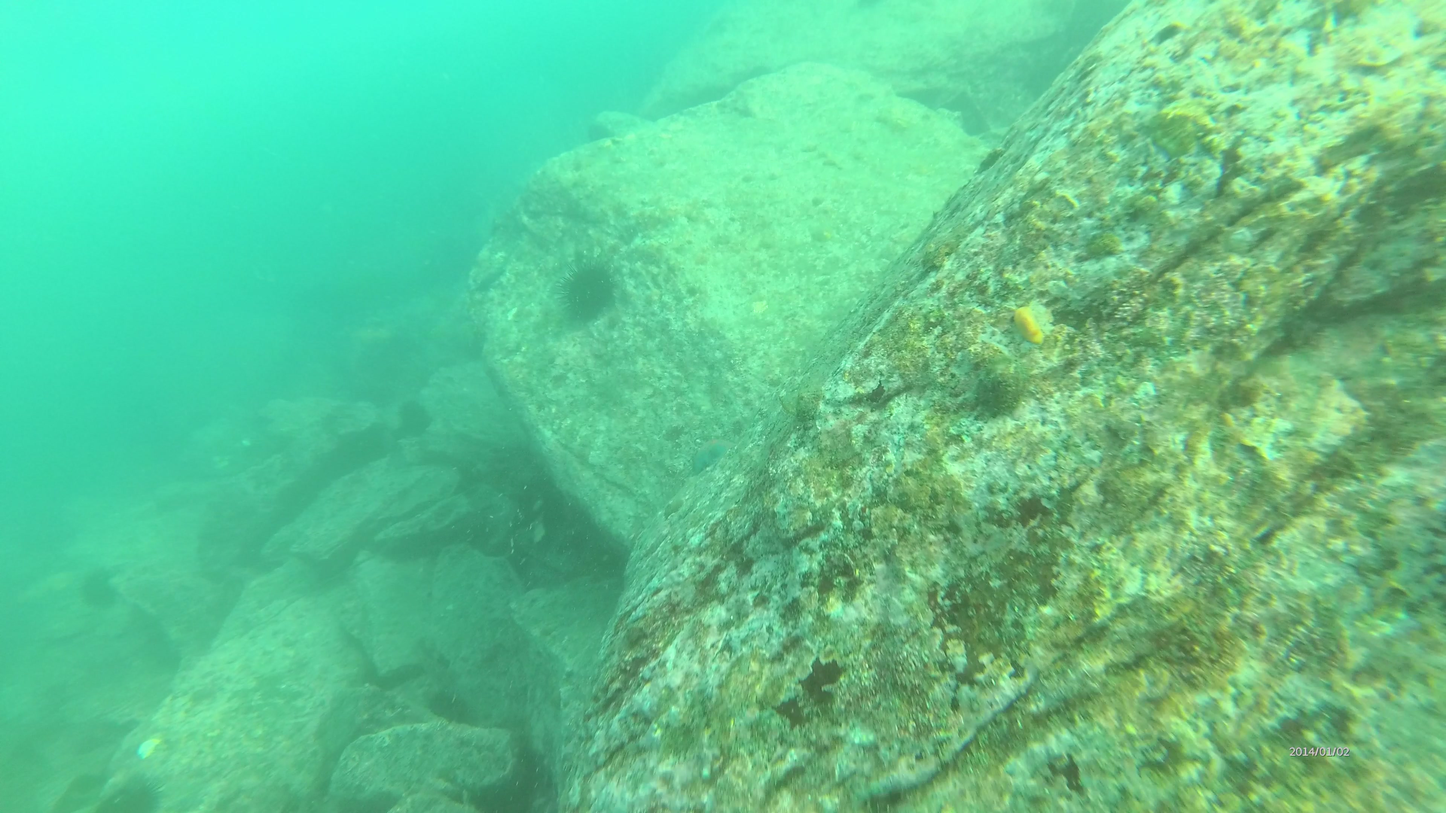starfish: (558, 257, 613, 325), (107, 775, 169, 813), (82, 557, 118, 613), (424, 689, 473, 728), (395, 394, 433, 440)
